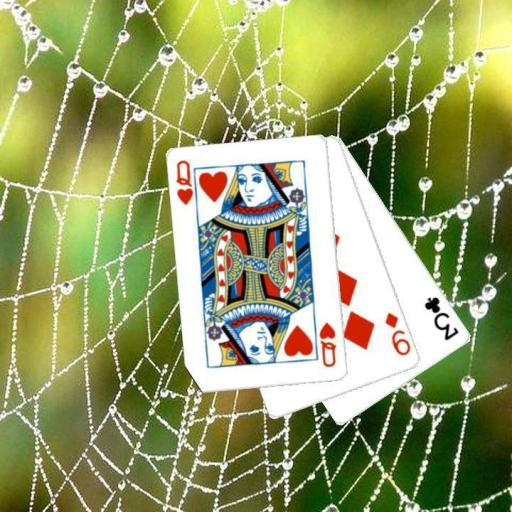card-corner: (421, 294, 461, 342), (173, 157, 200, 212), (382, 309, 412, 358), (316, 319, 338, 369)
